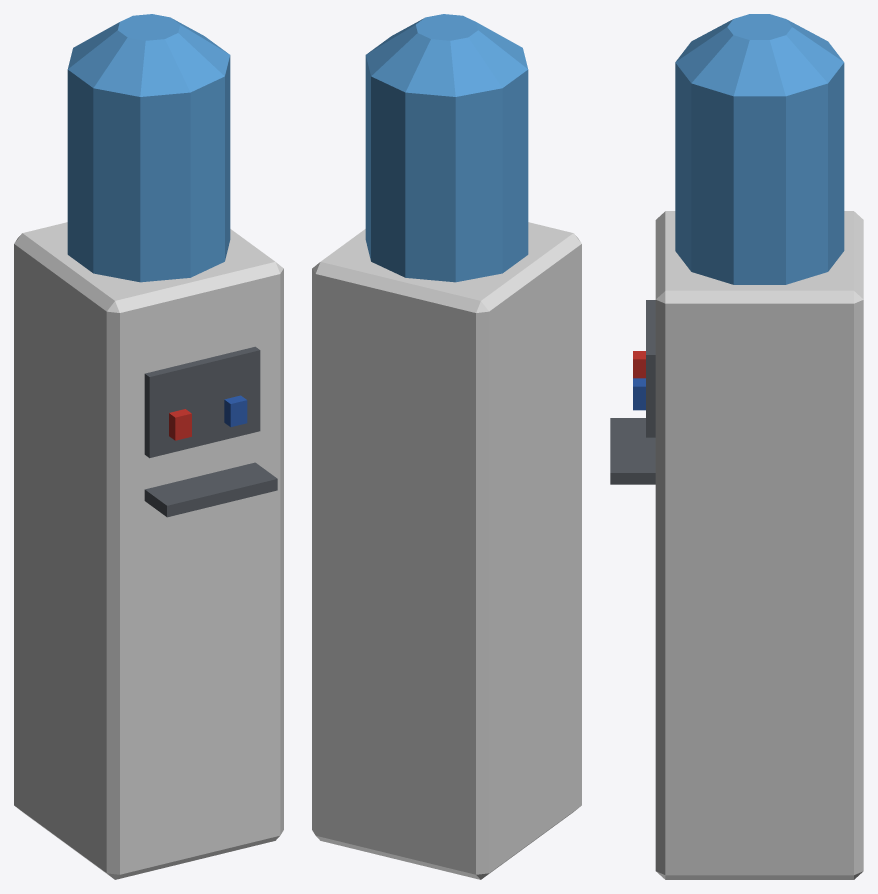
The model's file is water_cooler.glb.
3 renders of one model, left to right at view 1: azimuth 30°, elevation 25°; view 2: azimuth 150°, elevation 25°; view 3: azimuth 270°, elevation 25°, orthographic.
Parts seen in each view (by area): view 1: WaterCooler; view 2: WaterCooler; view 3: WaterCooler.
Boxes of the visible parts, bbox=[...] form: WaterCooler: bbox=[14, 14, 283, 879]; WaterCooler: bbox=[312, 14, 581, 879]; WaterCooler: bbox=[610, 14, 863, 879].
Size of what is drawn, in the model's own units: 0.32 by 1.38 by 0.39.
